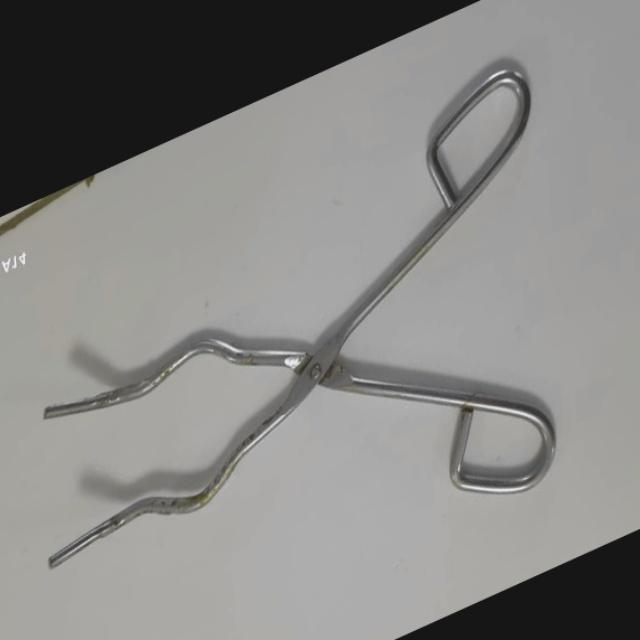Tongue: (7, 29, 587, 640)
